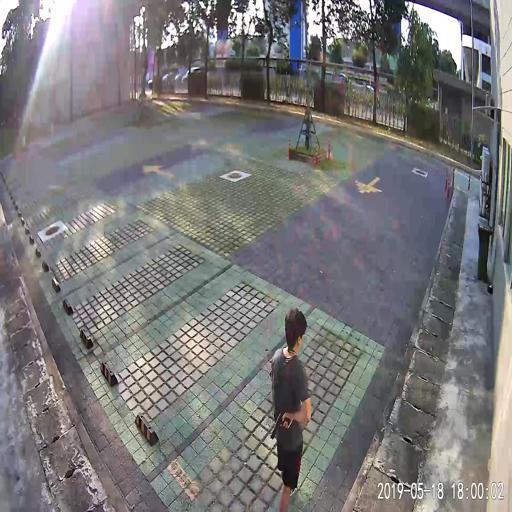Handgun: (270, 410, 290, 439)
